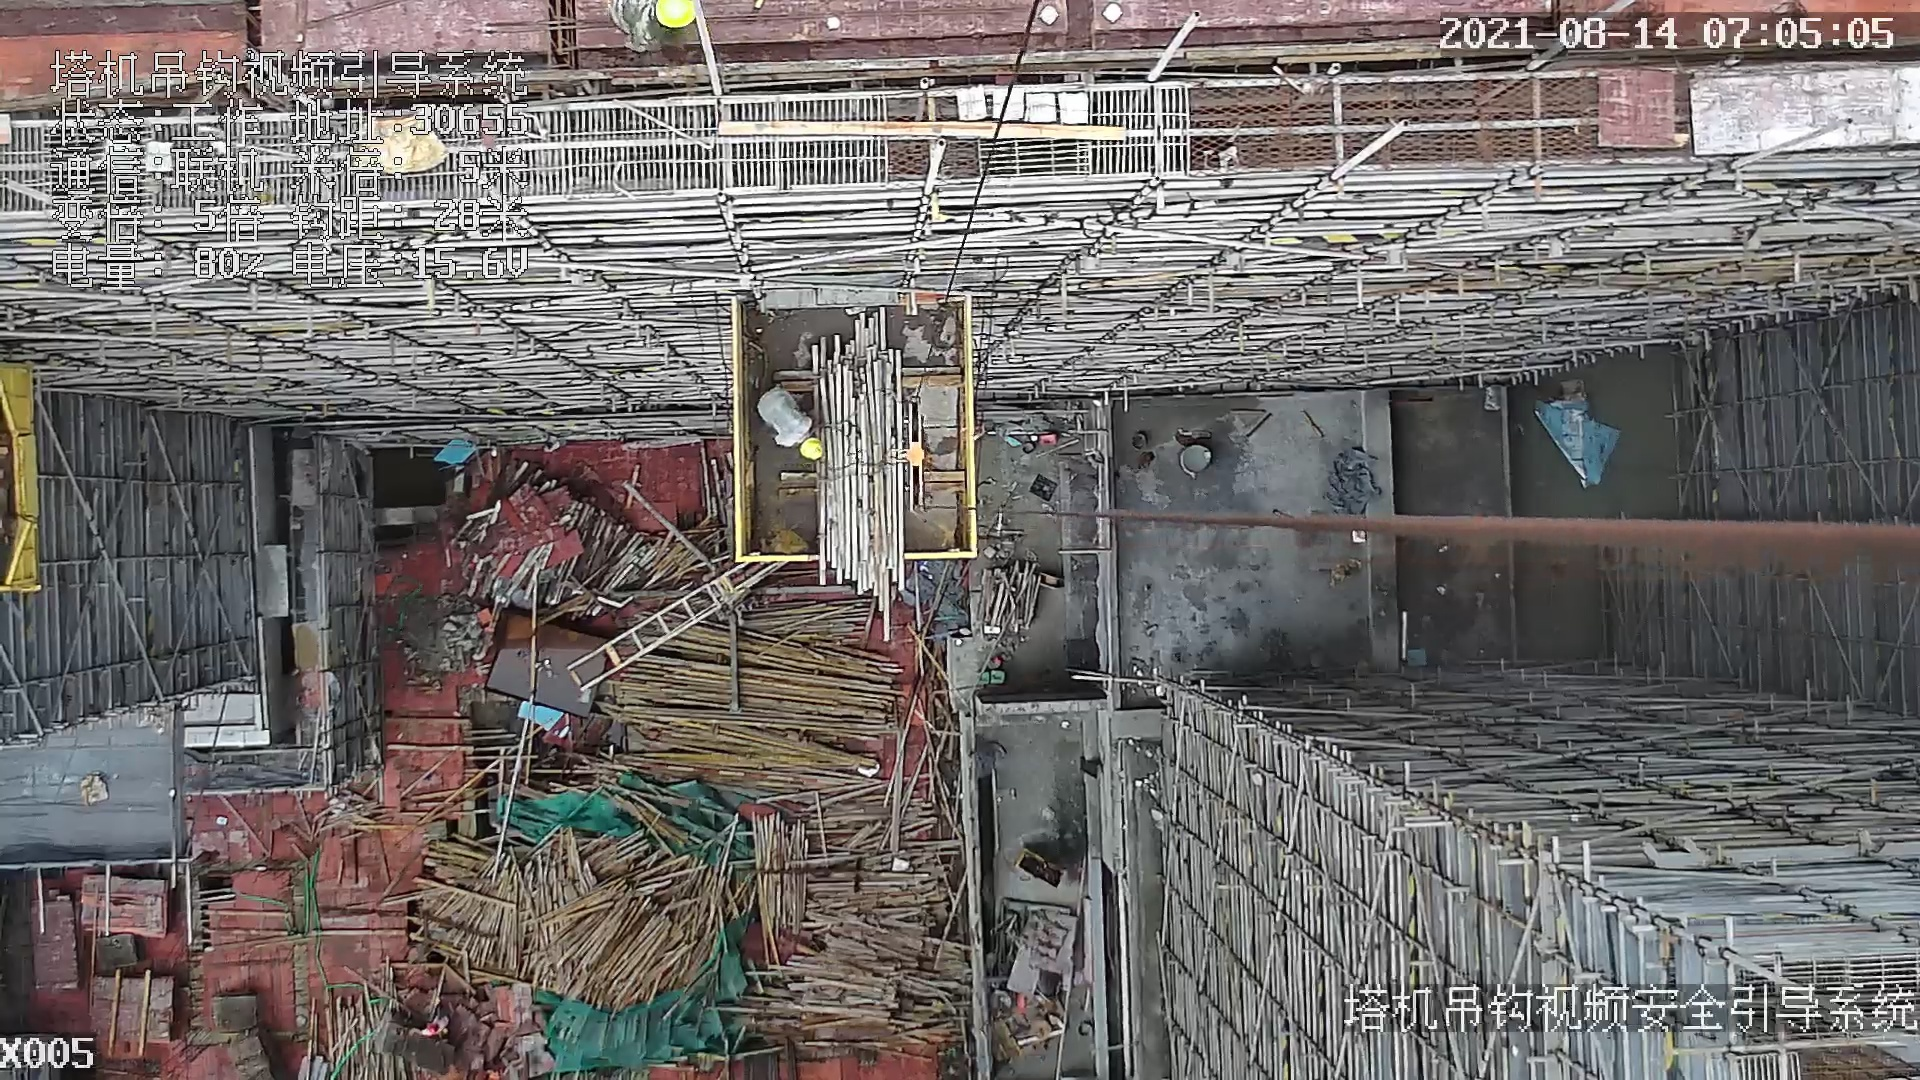helmet: (651, 1, 700, 31), (798, 434, 824, 464)
hook: (892, 400, 933, 517)
person: (747, 380, 837, 467), (604, 1, 706, 73)
